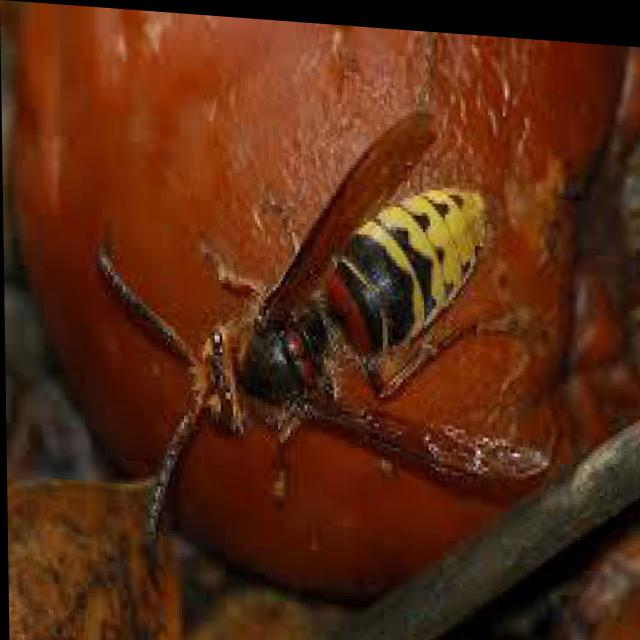Vespa Velutina: (87, 76, 552, 592)
